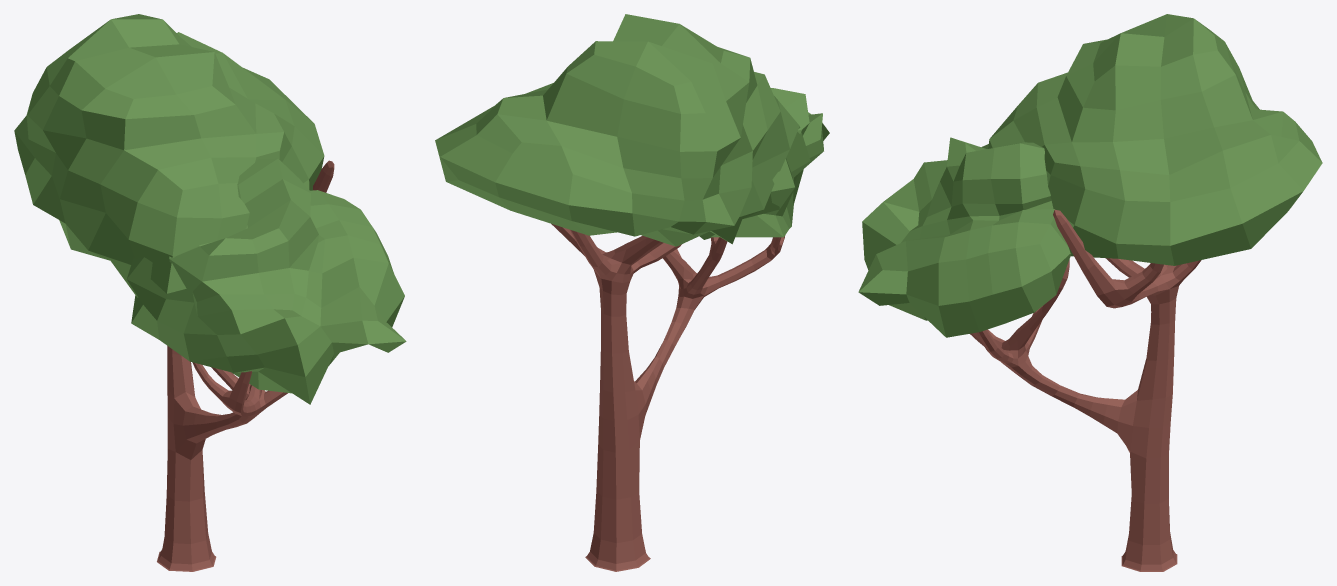
The model's file is CommonTree_2.glb.
3 views of the same model, side by side, from view 1: azimuth 30°, elevation 25°; view 2: azimuth 150°, elevation 25°; view 3: azimuth 270°, elevation 25° (orthographic). The views are drawn at different scales.
Parts seen in each view (by area): view 1: CommonTree_2; view 2: CommonTree_2; view 3: CommonTree_2.
Boxes of the visible parts, box(x1,y1,x2,y2) form: CommonTree_2: box(14, 14, 406, 571); CommonTree_2: box(435, 14, 829, 571); CommonTree_2: box(858, 14, 1322, 571).
Size of the model in its own units: 166 by 312 by 254.
